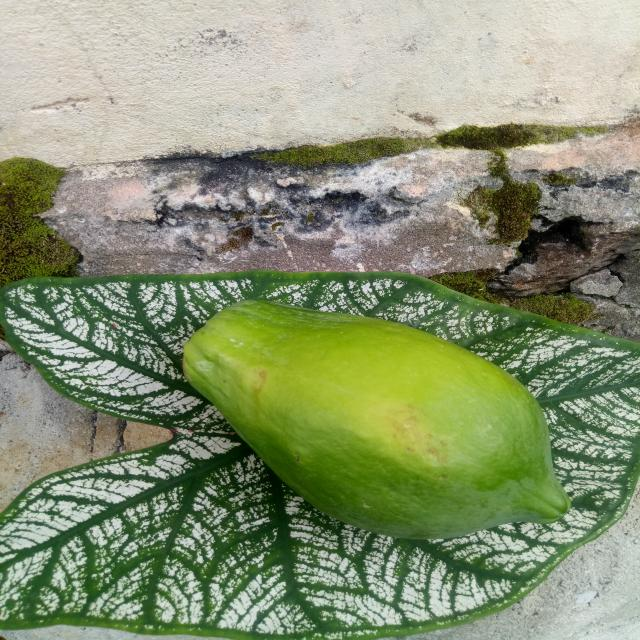Pepaya unrippen: (172, 297, 573, 542)
